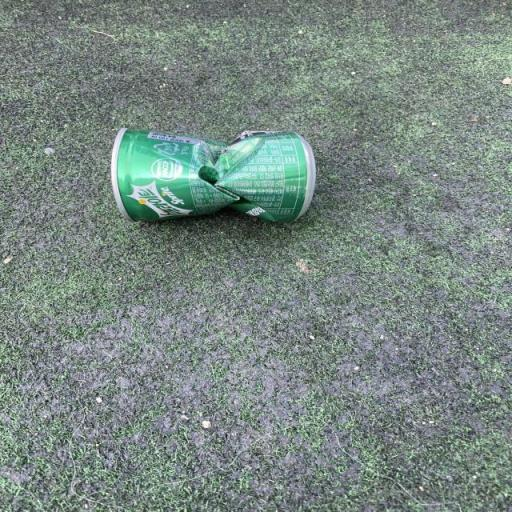metal: (69, 111, 369, 262)
